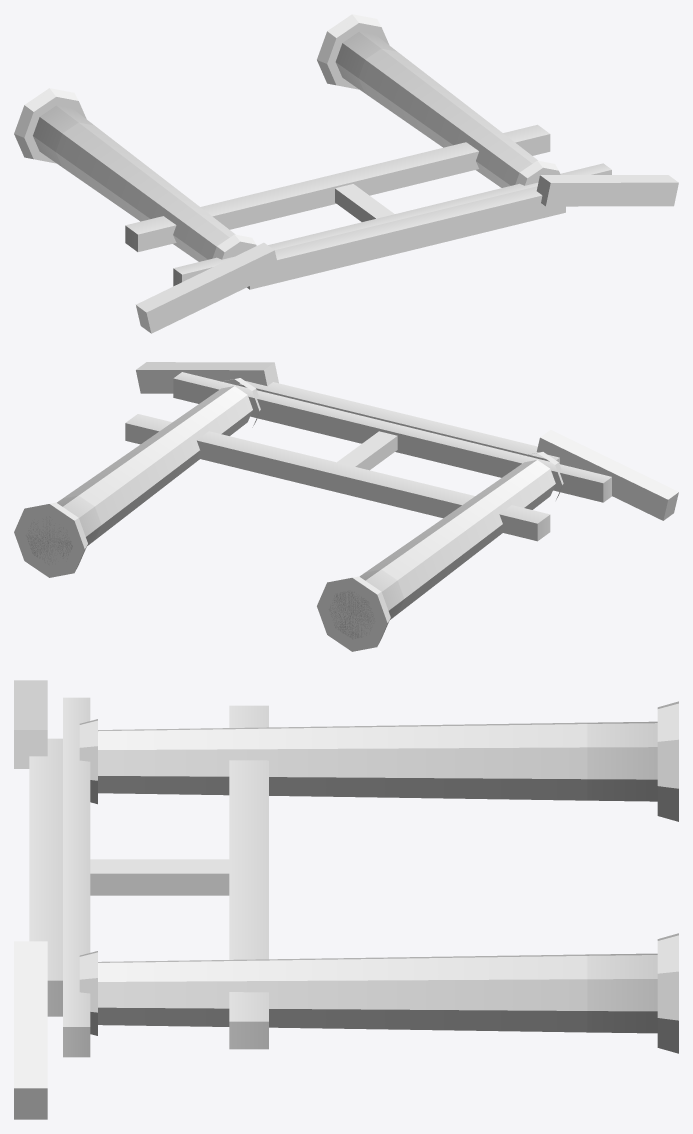
Rendered from SM_Torii_Gate_Main.glb.
The picture shows the model from 3 angles, top to bottom: view 1: azimuth 30°, elevation 25°; view 2: azimuth 150°, elevation 25°; view 3: azimuth 270°, elevation 25°; orthographic projection. The views are drawn at different scales.
Visible parts, largest first — view 1: asset_torii_main; view 2: asset_torii_main; view 3: asset_torii_main.
Boxes of the visible parts, x1,y1,x2,y2 form: asset_torii_main: [14, 14, 678, 333]; asset_torii_main: [14, 362, 678, 651]; asset_torii_main: [14, 680, 678, 1119].
Bounding box in the file's own units: 6.31 × 0.84 × 4.35.
1 material, 1 textured.
